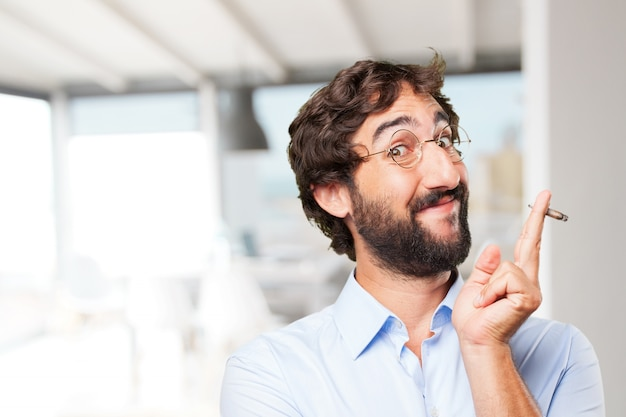cigarette: (526, 199, 569, 224)
